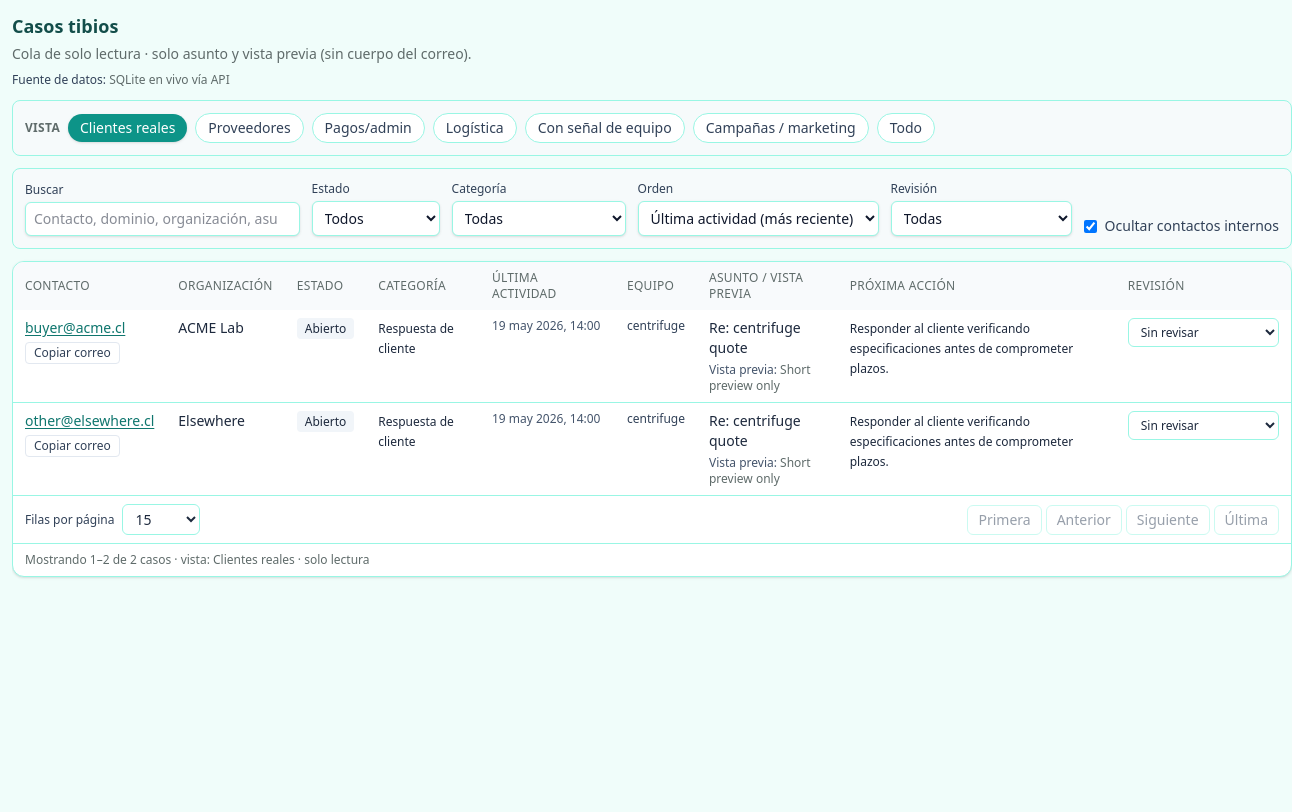
Scenario: WarmCasesTable › filters rows by search and shows no-match state
The image size is (1292, 812).
Type "zzznomatch" into the search field named "Buscar casos tibios".
click(162, 219); type("zzznomatch")  # box [25,202,300,236]
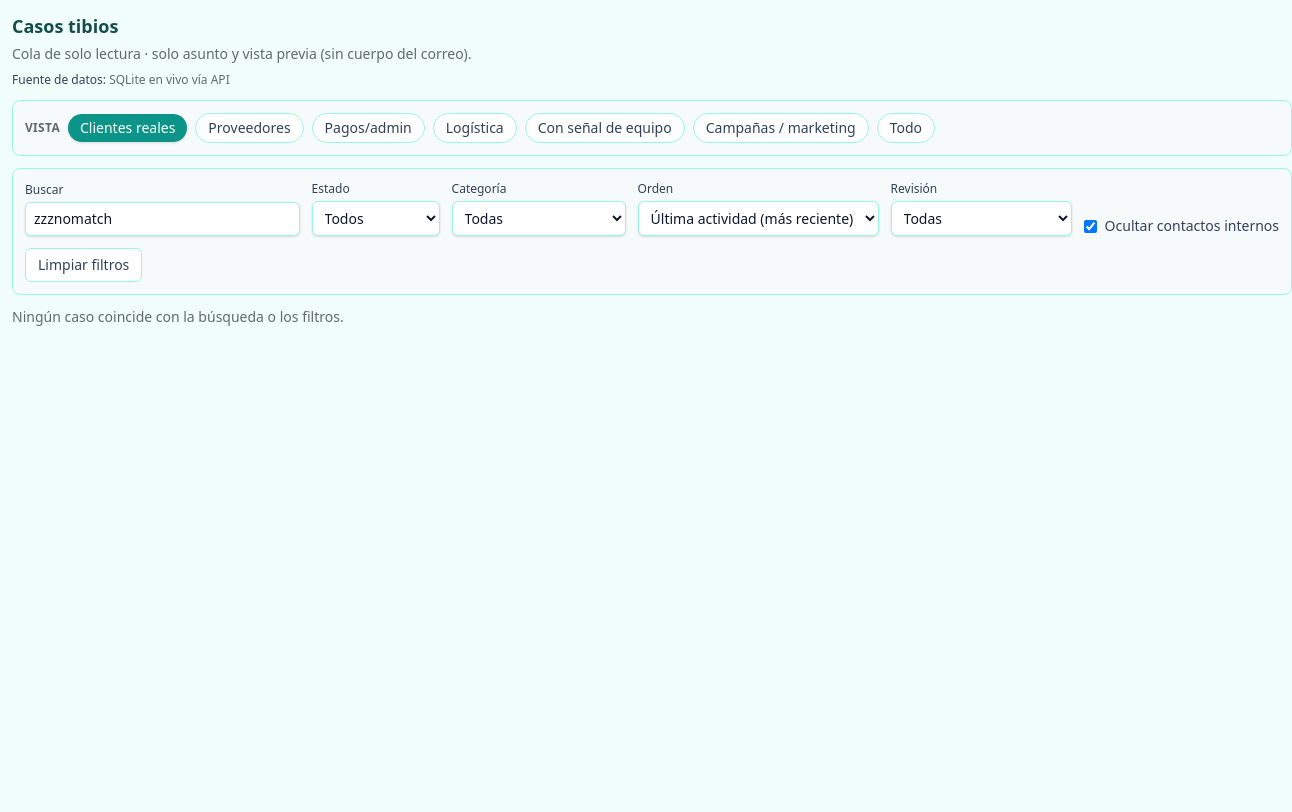
Result: the text "Ningún caso coincide con la búsqueda o los filtros." is shown at [12,307,344,326]
Result: the button "other@elsewhere.cl" is gone
